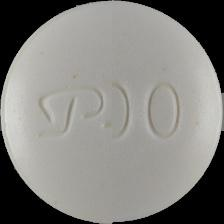50383-565: (0, 0, 224, 224)
